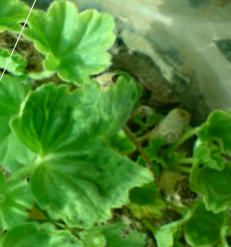Tomato leaf mosaic virus: (0, 36, 188, 246), (12, 0, 129, 100)
